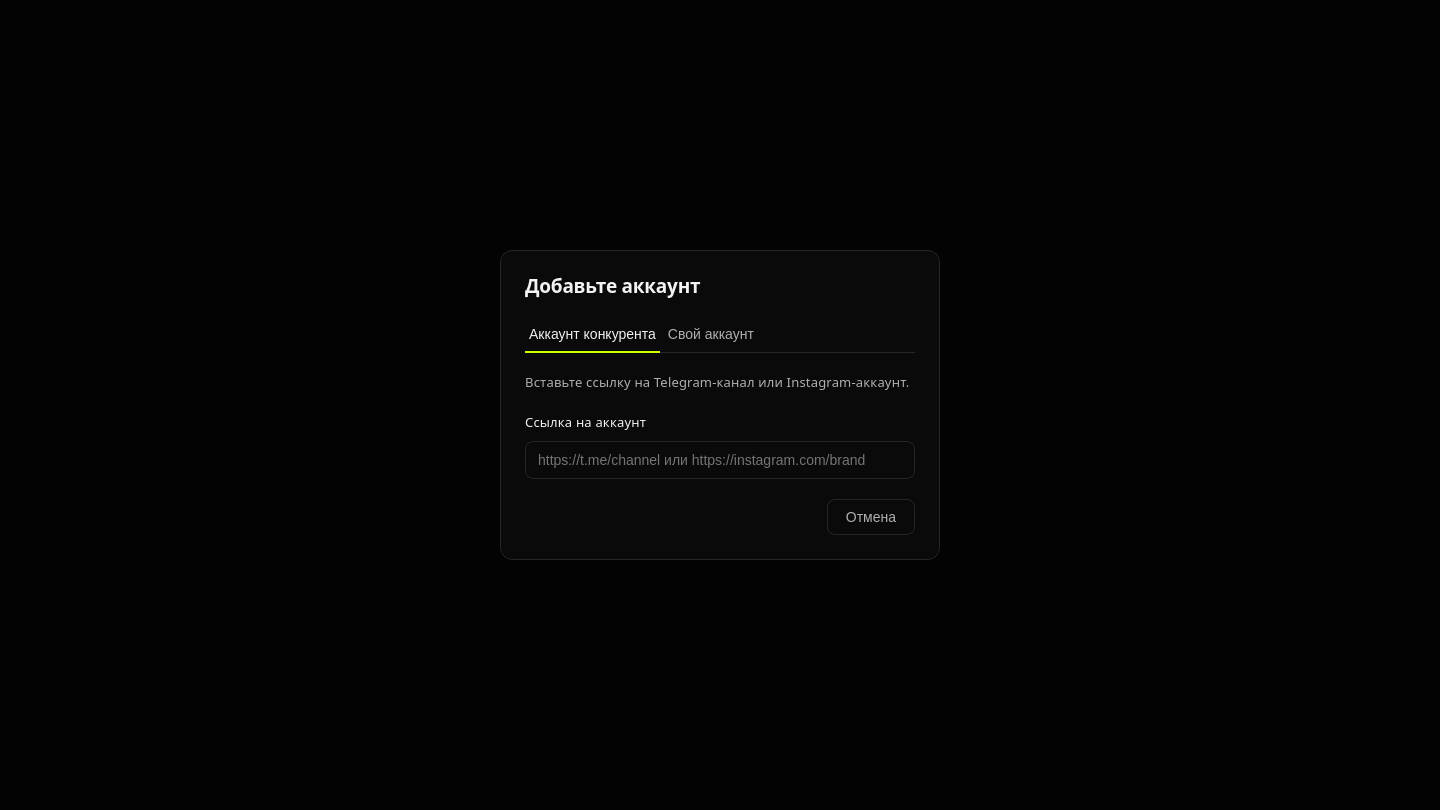
Свой аккаунт tab › shows only the Instagram connect button, with no link field
Click the tab "Свой аккаунт" at (711, 335), box [664,317,758,353]
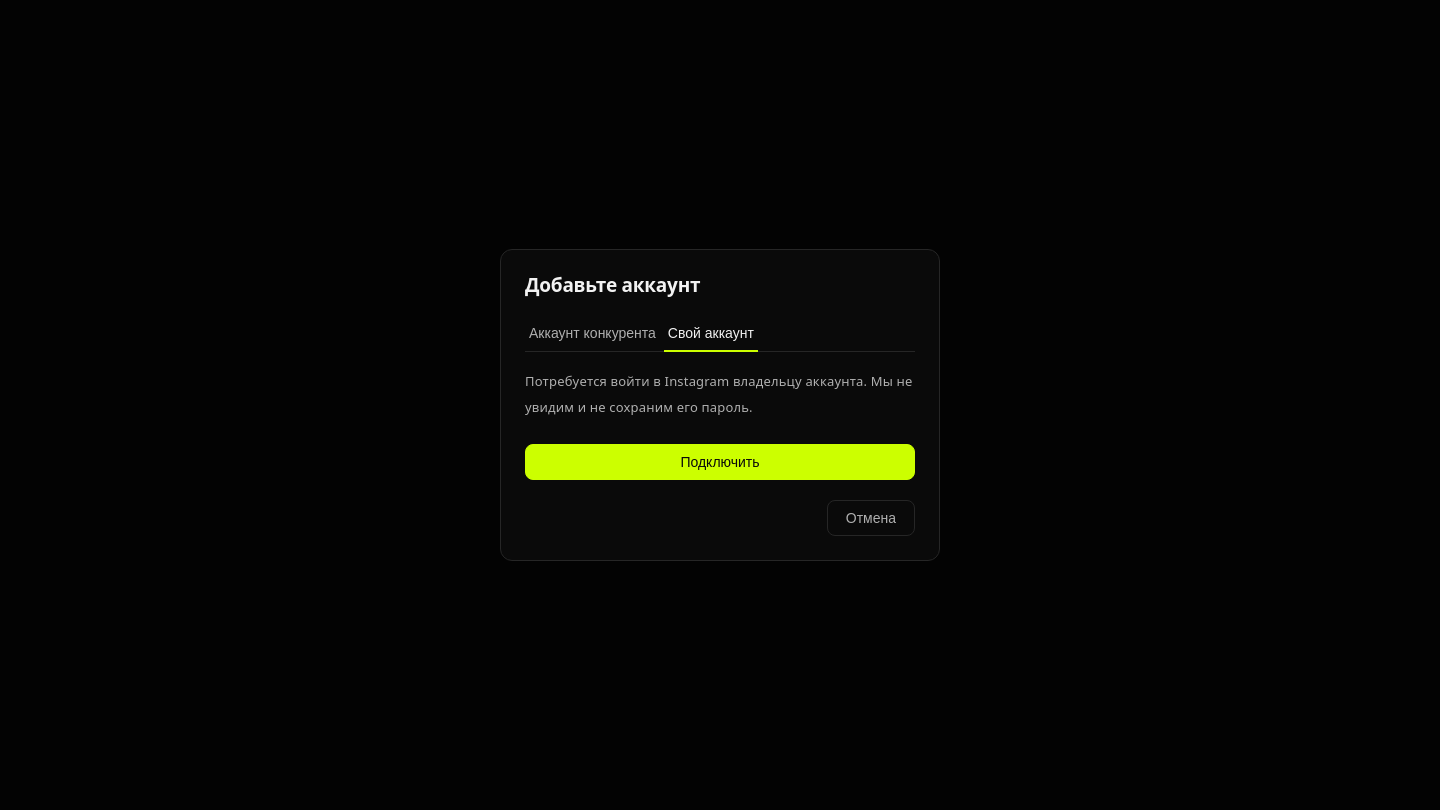
Check: the label labelled "Ссылка на аккаунт" is gone
Check: the button "Подключить" is shown, box [525,444,915,480]
